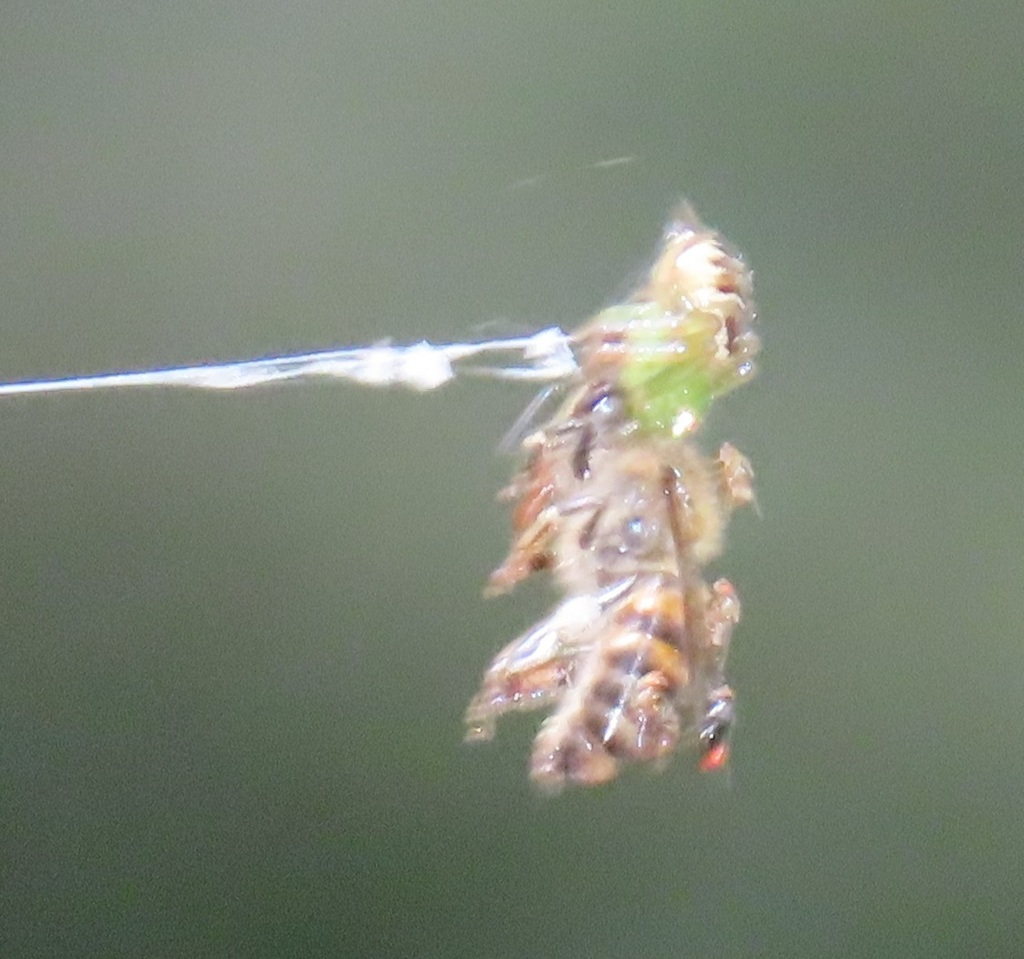not_bumblebee: (464, 368, 762, 798)
